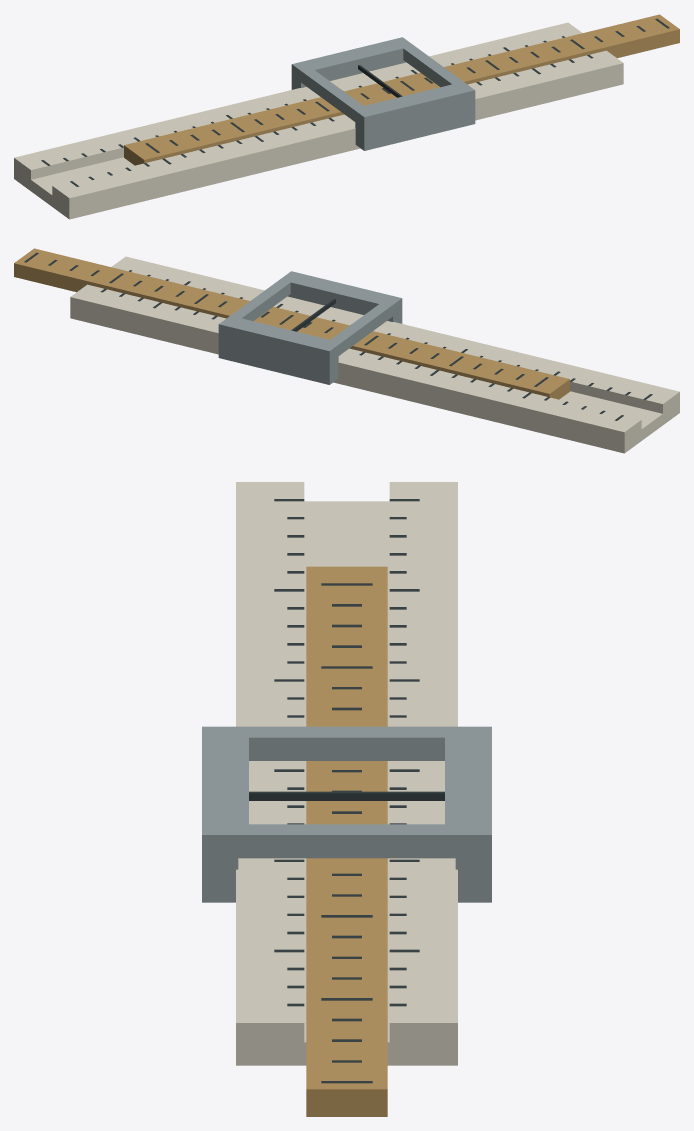
3 renders of one model, top to bottom at view 1: azimuth 30°, elevation 25°; view 2: azimuth 150°, elevation 25°; view 3: azimuth 270°, elevation 25°, orthographic. The views are drawn at different scales.
Parts seen in each view (by area): view 1: WholeGroundedChannelStock, WholeOffsetCentralRule, WholeOpenWindowCursorAndGuideCheeks; view 2: WholeGroundedChannelStock, WholeOffsetCentralRule, WholeOpenWindowCursorAndGuideCheeks; view 3: WholeGroundedChannelStock, WholeOffsetCentralRule, WholeOpenWindowCursorAndGuideCheeks, WholeFineCursorIndexBar.
Part boxes in pixels (bbox=[...]): WholeGroundedChannelStock: bbox=[14, 22, 623, 219]; WholeOffsetCentralRule: bbox=[124, 14, 679, 165]; WholeOpenWindowCursorAndGuideCheeks: bbox=[291, 37, 475, 150]; WholeGroundedChannelStock: bbox=[70, 256, 679, 453]; WholeOffsetCentralRule: bbox=[14, 248, 569, 399]; WholeOpenWindowCursorAndGuideCheeks: bbox=[218, 271, 402, 384]; WholeGroundedChannelStock: bbox=[236, 482, 457, 1065]; WholeOffsetCentralRule: bbox=[306, 566, 387, 1116]; WholeOpenWindowCursorAndGuideCheeks: bbox=[202, 726, 491, 902]; WholeFineCursorIndexBar: bbox=[249, 791, 444, 800].
Size of the model in its own units: 0.34 by 0.02 by 0.068.
